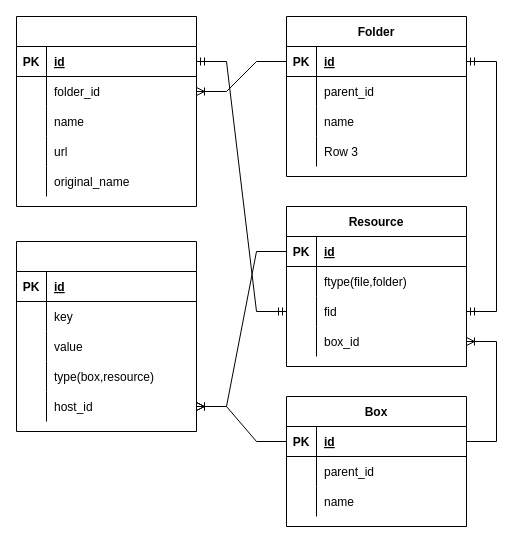
This 513x543 diagram has some shape labels left out. Here are the shapes that lost their labels. From the top down, the box of each, then its label:
(16, 16, 196, 206): File
(16, 240, 196, 432): Metadata
